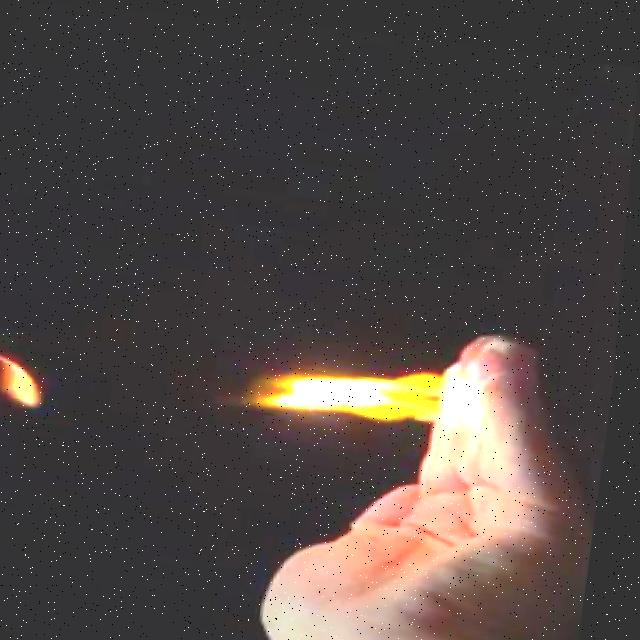Fire: (246, 338, 517, 439)
